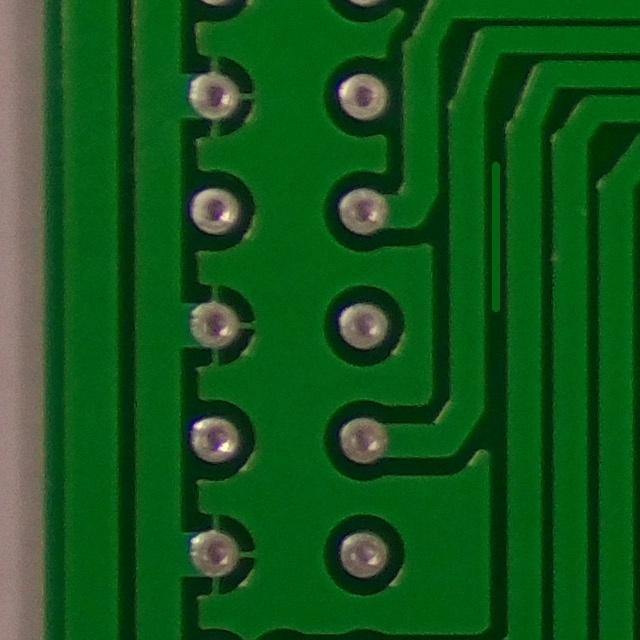spurious_copper: (483, 154, 513, 331)
